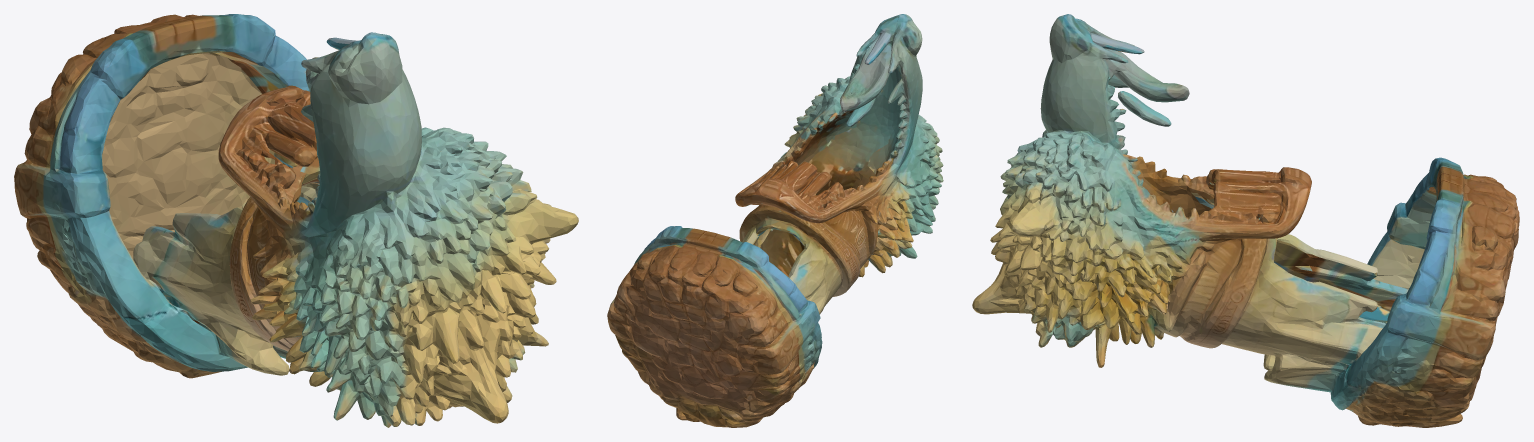
Rendered from wolf-of-winter-ashtray-fierce.glb.
The picture shows the model from 3 angles, left to right: view 1: azimuth 30°, elevation 25°; view 2: azimuth 150°, elevation 25°; view 3: azimuth 270°, elevation 25°; orthographic projection. The views are drawn at different scales.
Parts seen in each view (by area): view 1: wolf of winter ashtray fierce_textured.obj; view 2: wolf of winter ashtray fierce_textured.obj; view 3: wolf of winter ashtray fierce_textured.obj.
Part boxes in pixels (bbox=[...]): wolf of winter ashtray fierce_textured.obj: bbox=[14, 14, 578, 427]; wolf of winter ashtray fierce_textured.obj: bbox=[607, 14, 943, 427]; wolf of winter ashtray fierce_textured.obj: bbox=[972, 14, 1519, 427].
Bounding box in the file's own units: 0.9159 × 1.52 × 1.99.
Materials: 1 (1 with a texture image).
